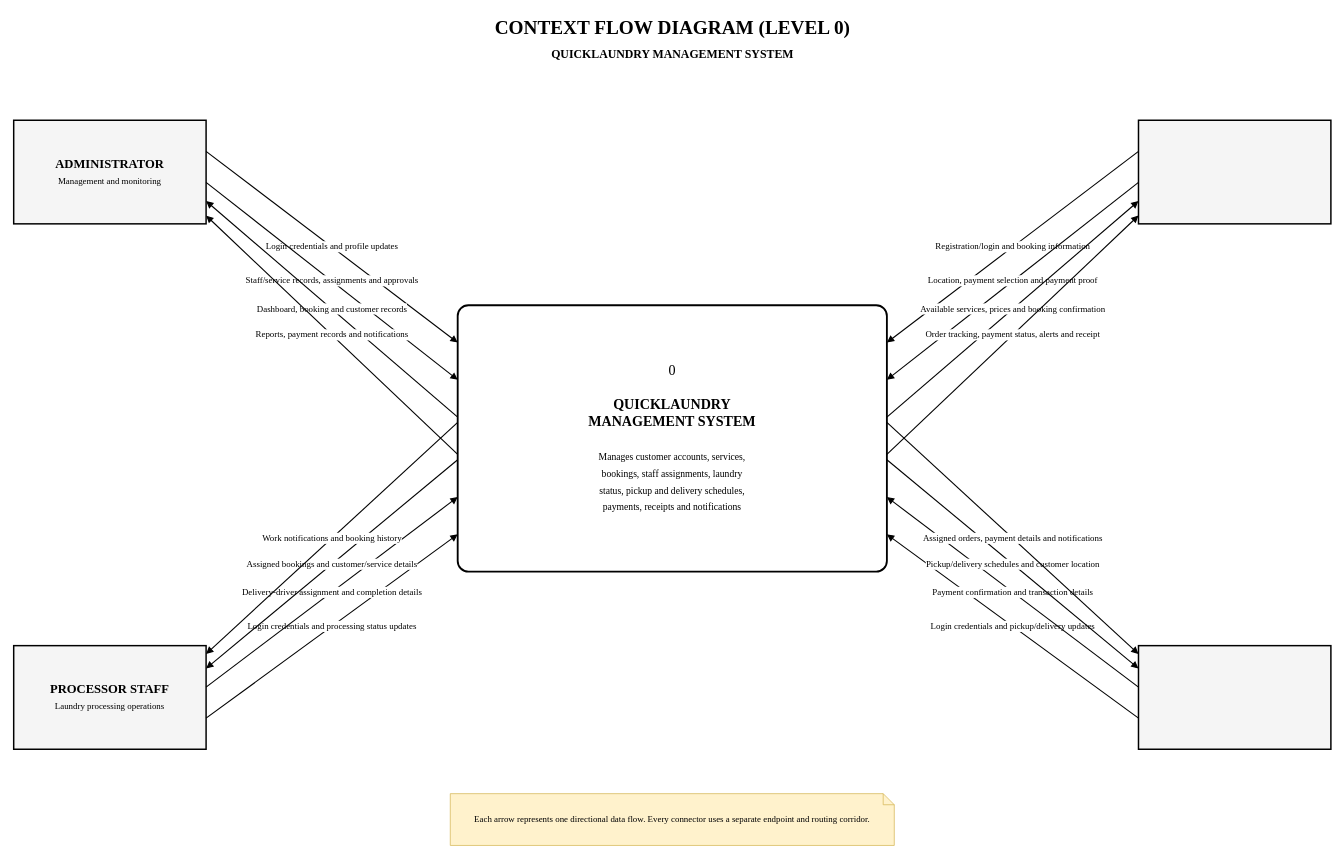
The diagram is 1344 pixels wide and 858 high, and some of its shapes have lost their labels. The box of each missing label's shape, as (x1, y1, x2, y2) in pixels:
CUSTOMER Web portal and Android app: (1137, 119, 1331, 224)
DRIVER STAFF Pickup, delivery and collection: (1137, 645, 1331, 750)
